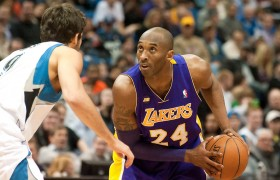ball: (202, 133, 249, 180)
